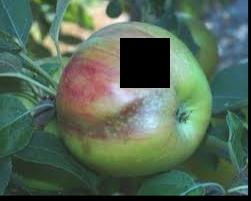rotten apple: (48, 21, 213, 176)
